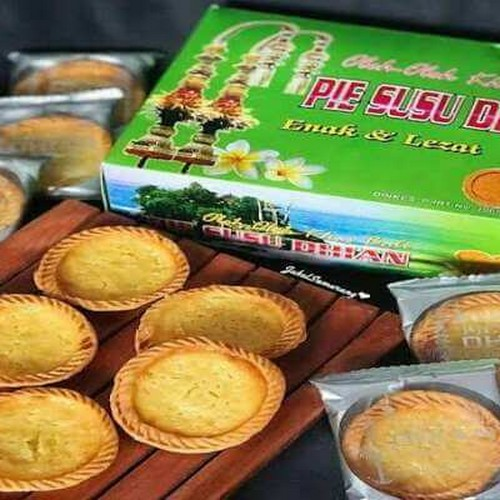pie susu: (113, 350, 287, 461), (143, 275, 314, 373), (42, 215, 191, 319), (4, 389, 120, 494), (5, 290, 104, 389)
